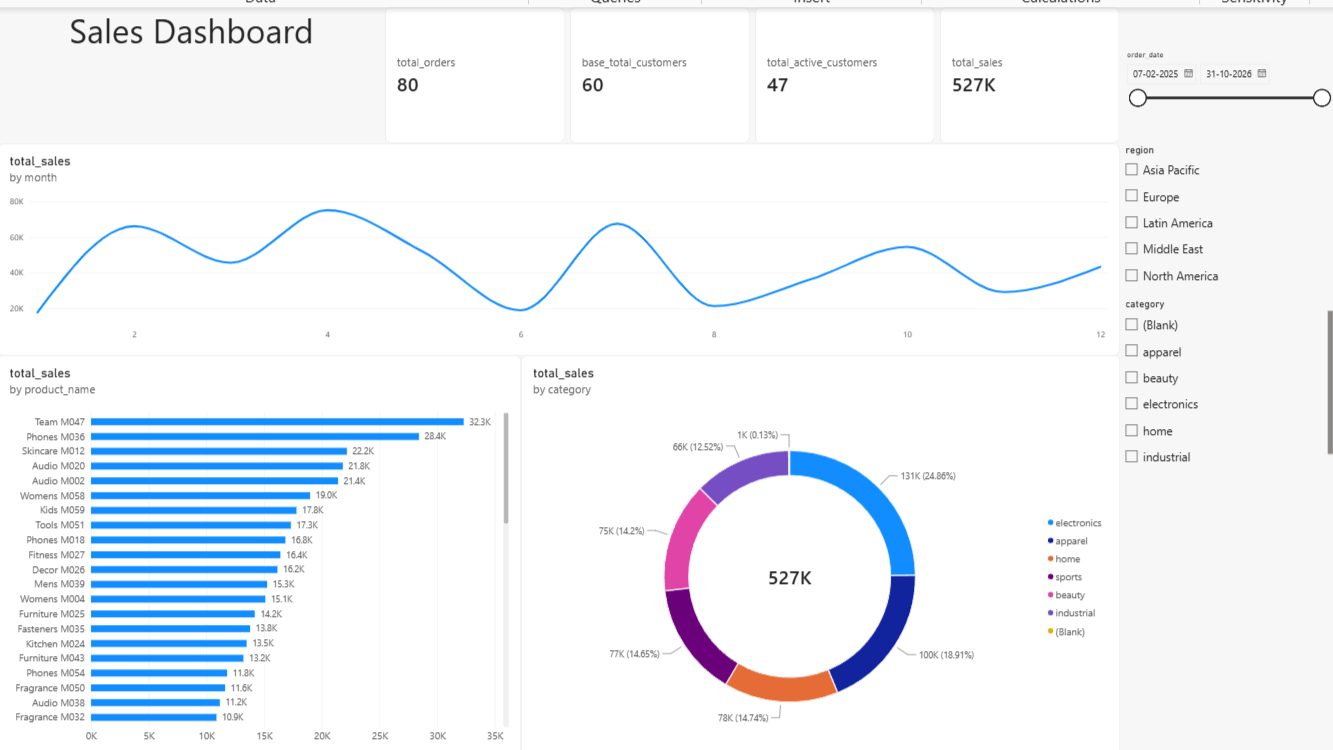

Layout of this report page (visuals, bound fields, positions):
{"tool":"powerbi","page":{"name":"Page 3","canvas":[1920,1080],"ordinal":2},"visuals":[{"type":"barChart","fields":{"Category":["dim_products.product_name"],"Y":["_measures.total_sales"]},"box":[0,499.7,751.8,579.2],"z":0},{"type":"donutChart","fields":{"Category":["dim_products.category"],"Y":["_measures.total_sales"]},"box":[751.8,499.7,860.8,579.2],"z":1},{"type":"cardVisual","fields":{"Data":["_measures.total_orders","_measures.base_total_customers","_measures.total_active_customers","_measures.total_sales"]},"box":[556.5,0,1056.2,195.3],"z":2},{"type":"lineChart","fields":{"Category":["dim_date.month"],"Y":["_measures.total_sales"]},"box":[0,195.3,1612.6,304.4],"z":3},{"type":"slicer","fields":{"Values":["dim_geo.region"]},"box":[1612.6,195.3,306.6,249.8],"z":4},{"type":"slicer","fields":{"Values":["dim_products.category"]},"box":[1612.6,417.9,306.6,252.1],"z":5},{"type":"slicer","fields":{"Values":["fact_sales.order_date"]},"box":[1614.9,63.6,304.4,131.7],"z":6},{"type":"textbox","box":[0,0,556.5,195.3],"z":8}]}

Visuals, with their boxes on the page's 1920x1080 design canvas (x1, y1, x2, y2). These are canvas units, not pixel positions in the 1333x750 screenshot, which may show the page scaled, cropped or inside an application window:
barChart - dim_products.product_name x _measures.total_sales: rect(0, 500, 752, 1079)
donutChart - dim_products.category x _measures.total_sales: rect(752, 500, 1613, 1079)
cardVisual - _measures.total_orders x _measures.base_total_customers: rect(556, 0, 1613, 195)
lineChart - dim_date.month x _measures.total_sales: rect(0, 195, 1613, 500)
slicer - dim_geo.region: rect(1613, 195, 1919, 445)
slicer - dim_products.category: rect(1613, 418, 1919, 670)
slicer - fact_sales.order_date: rect(1615, 64, 1919, 195)
textbox: rect(0, 0, 556, 195)
